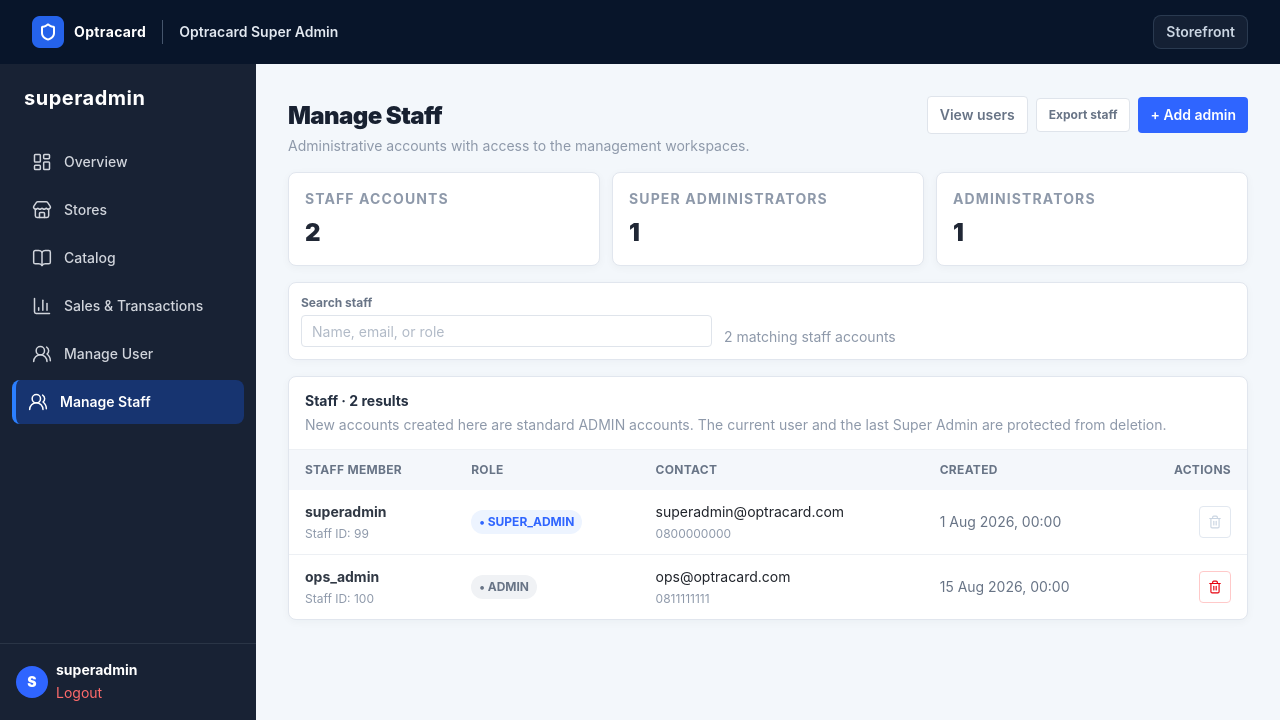
Super Admin Workspace & System Management › manages staff and administrator accounts
The image size is (1280, 720).
expect the heading "superadmin" is shown: met, box [24,86,145,110]
expect the text "ops_admin" is shown: met, box [305,568,379,585]
// Navigate to Add Admin form
What coordinates should you click on to do the following:
click the link "+ Add admin"
I would click on:
 (1194, 115)
Its box is [1139,97,1249,133].
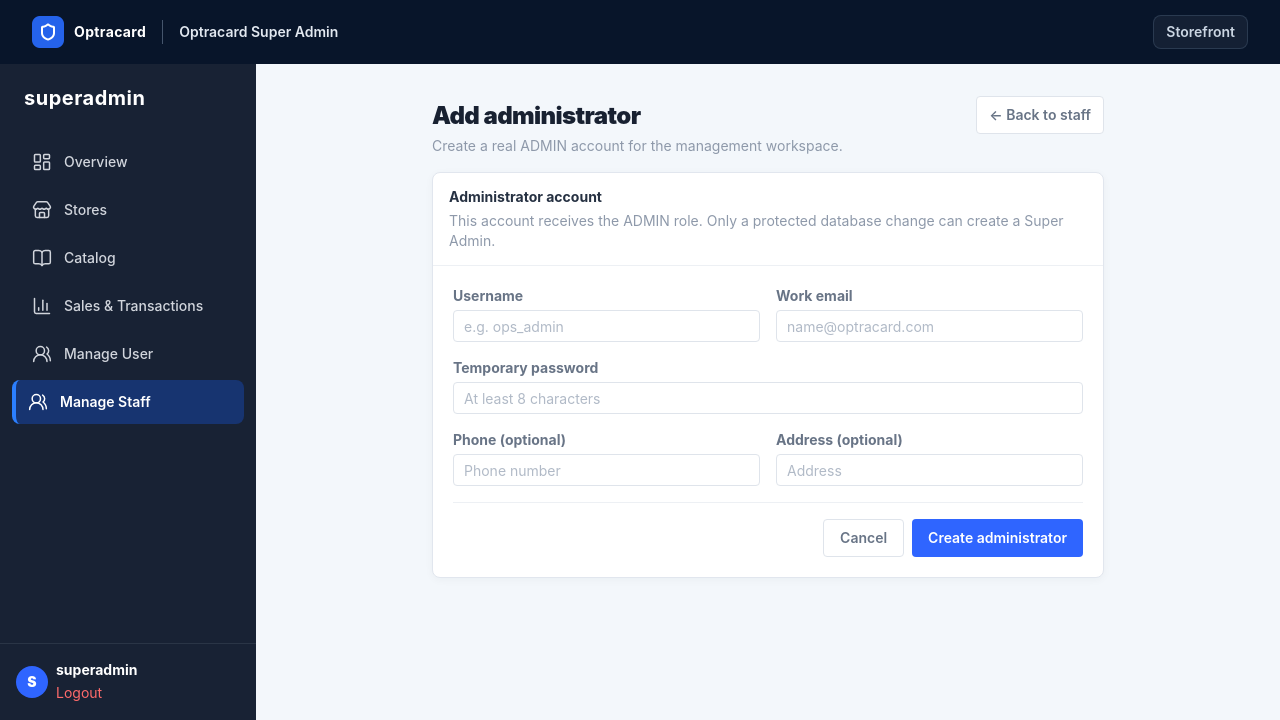
expect the submit button is shown: met, box [912,519,1083,557]
expect the link "← Back to staff" is shown: met, box [976,96,1104,134]
